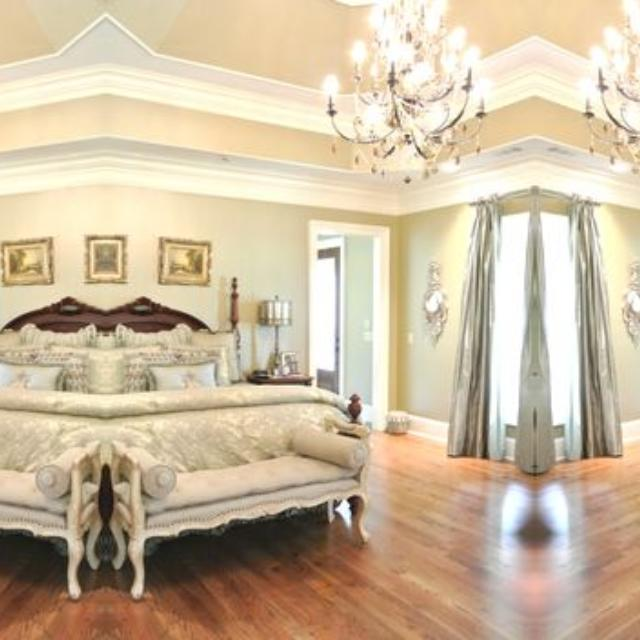bed: (106, 298, 346, 471), (0, 298, 104, 471)
curtain: (448, 200, 498, 457), (571, 200, 621, 457), (514, 200, 534, 473), (534, 200, 554, 473)
light: (326, 0, 484, 171), (105, 0, 369, 93), (584, 0, 640, 170), (0, 2, 105, 65), (446, 0, 534, 57), (534, 0, 622, 57)
wall-art: (159, 238, 207, 284), (3, 238, 51, 284), (422, 261, 446, 346), (622, 261, 640, 346), (105, 235, 125, 282), (85, 235, 105, 282)
